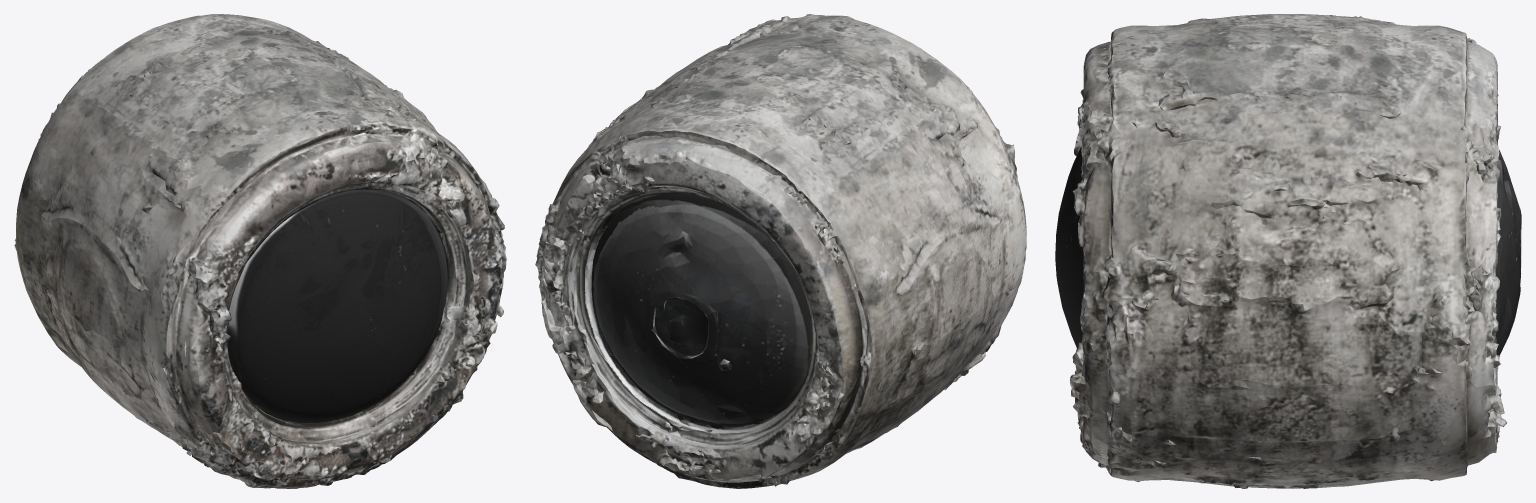
Rendered from relic_mirror.glb.
The picture shows the model from 3 angles, left to right: view 1: azimuth 30°, elevation 25°; view 2: azimuth 150°, elevation 25°; view 3: azimuth 270°, elevation 25°; orthographic projection. The views are drawn at different scales.
Parts seen in each view (by area): view 1: geometry_0; view 2: geometry_0; view 3: geometry_0.
Part boxes in pixels (x1,y1,x2,y2): geometry_0: (14, 14, 506, 488); geometry_0: (535, 14, 1026, 488); geometry_0: (1055, 14, 1521, 488).
Bounding box in the file's own units: 0.085 × 0.0851 × 0.0844.
1 material, 1 textured.
